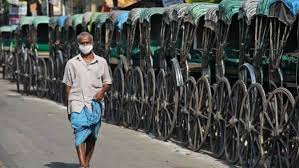mask: (74, 31, 95, 57)
